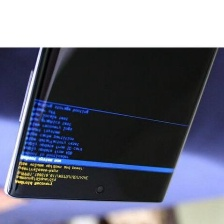phone: (2, 0, 224, 208)
